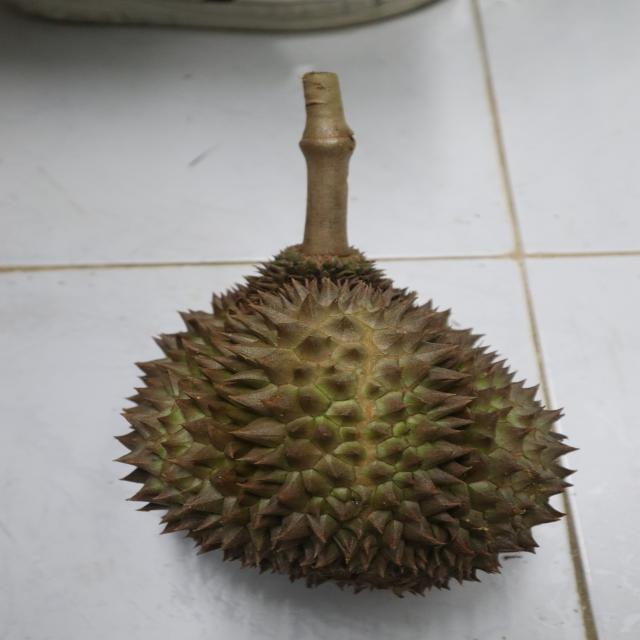mature: (110, 247, 580, 597)
